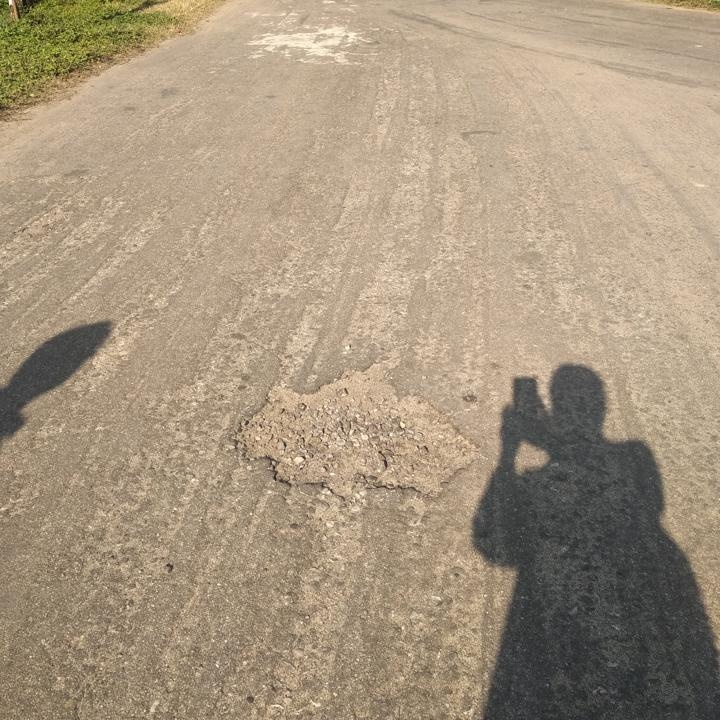pothole: (228, 356, 488, 504)
